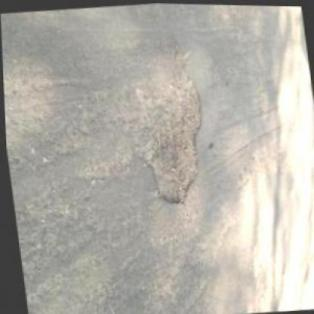Hueco: (127, 66, 211, 208)
